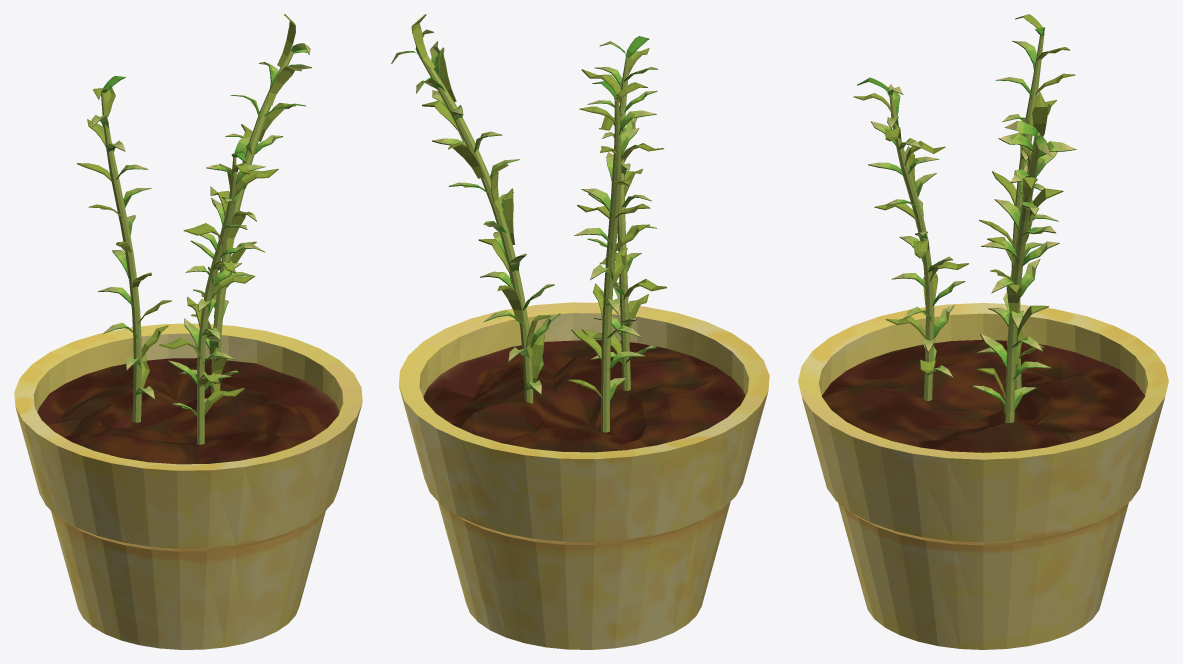
Rendered from Lilium_Bad_End.glb.
3 renders of one model, left to right at view 1: azimuth 30°, elevation 25°; view 2: azimuth 150°, elevation 25°; view 3: azimuth 270°, elevation 25°, orthographic. The views are drawn at different scales.
Visible parts, largest first — view 1: Pot, Plane.020; view 2: Pot, Plane.020; view 3: Pot, Plane.020.
Boxes of the visible parts, x1,y1,x2,y2 form: Pot: (14, 323, 362, 649); Plane.020: (77, 14, 311, 444); Pot: (398, 302, 769, 649); Plane.020: (391, 14, 666, 432); Pot: (798, 303, 1168, 649); Plane.020: (853, 14, 1076, 423).
Bounding box in the file's own units: 2.05 × 3.49 × 2.05.
5 materials, 4 textured.
